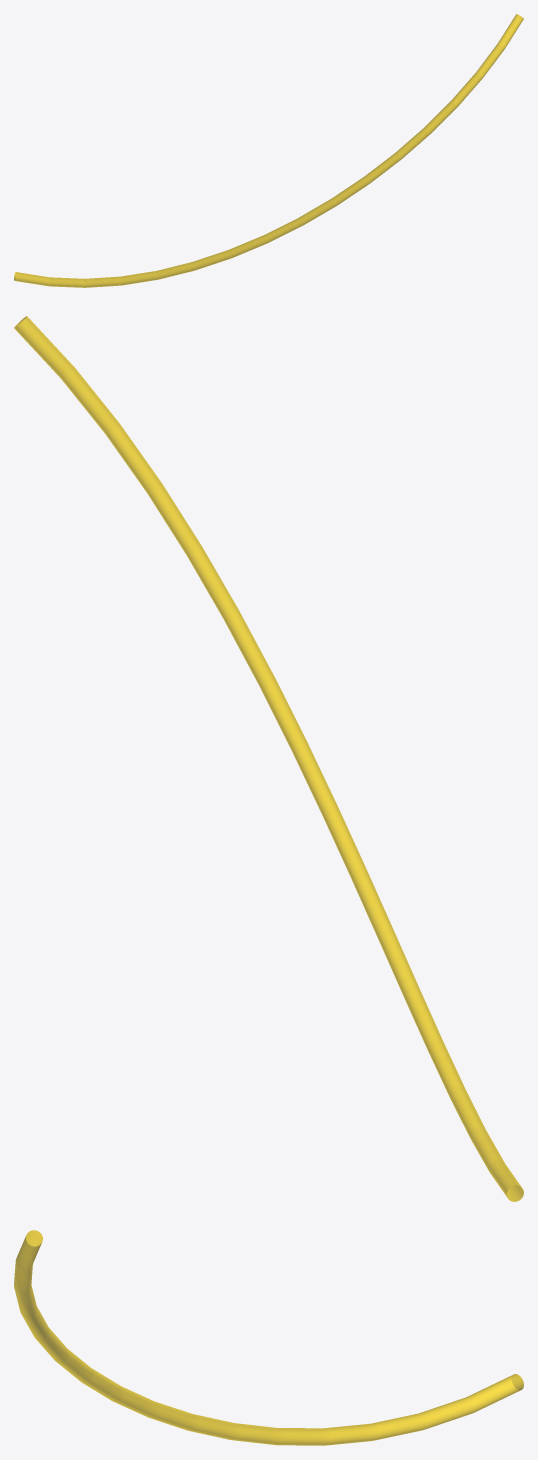
File: Event_31209032_track_25.fbx
3 views of the same model, one above another, from view 1: azimuth 30°, elevation 25°; view 2: azimuth 150°, elevation 25°; view 3: azimuth 270°, elevation 25° (orthographic). The views are drawn at different scales.
Visible parts, largest first — view 1: Model; view 2: Model; view 3: Model.
Part boxes in pixels (x1=…): Model: x1=14, y1=14, x2=523, y2=287; Model: x1=14, y1=316, x2=523, y2=1201; Model: x1=14, y1=1230, x2=523, y2=1445.
Bounding box in the file's own units: 1.95 × 1.3 × 1.17.
